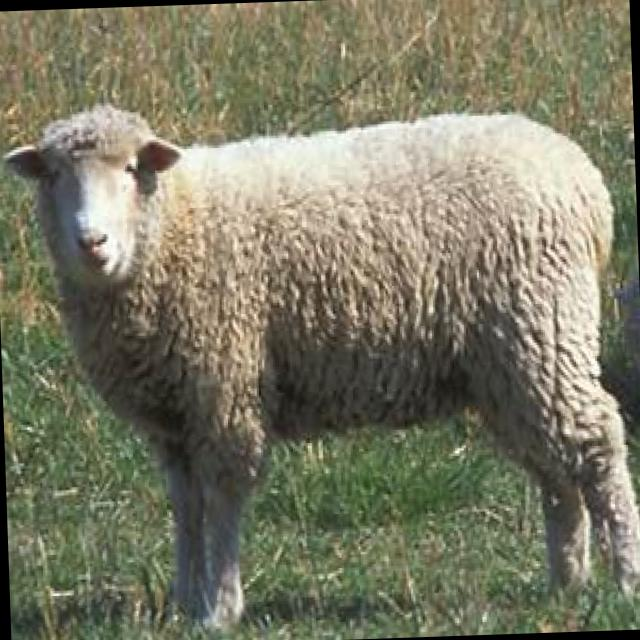animal: (1, 81, 640, 640)
